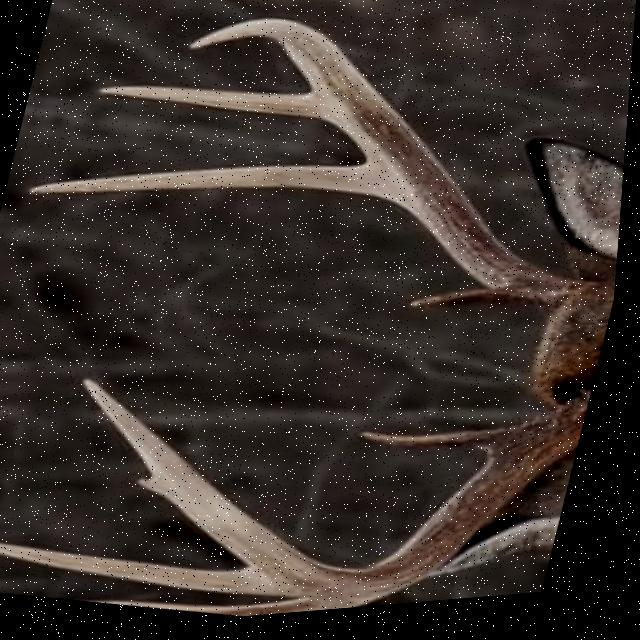L-F: (85, 380, 596, 612)
L-G1: (364, 436, 519, 458)
R-F: (187, 23, 580, 313)
R-G1: (413, 296, 524, 315)
R-G2: (29, 168, 388, 203)
R-G3: (97, 87, 323, 124)
